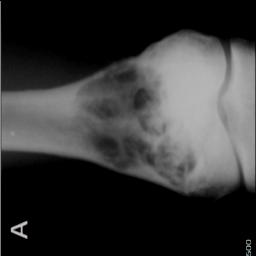cancer: (78, 31, 224, 209)
